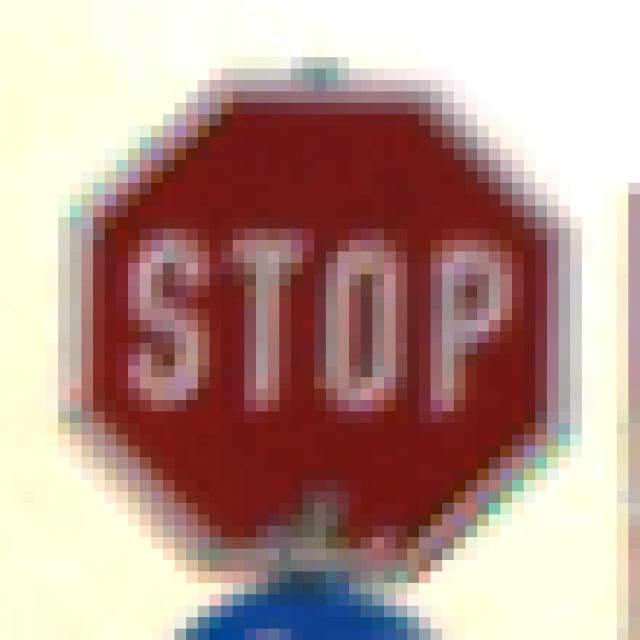STOP: (59, 58, 583, 584)
